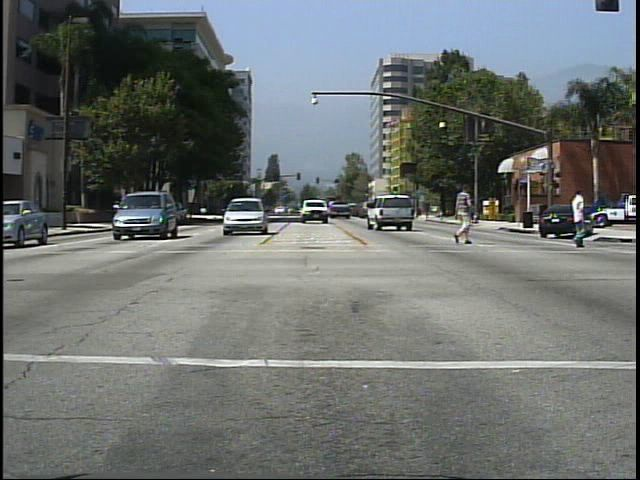person: (560, 182, 597, 253), (449, 180, 480, 251)
